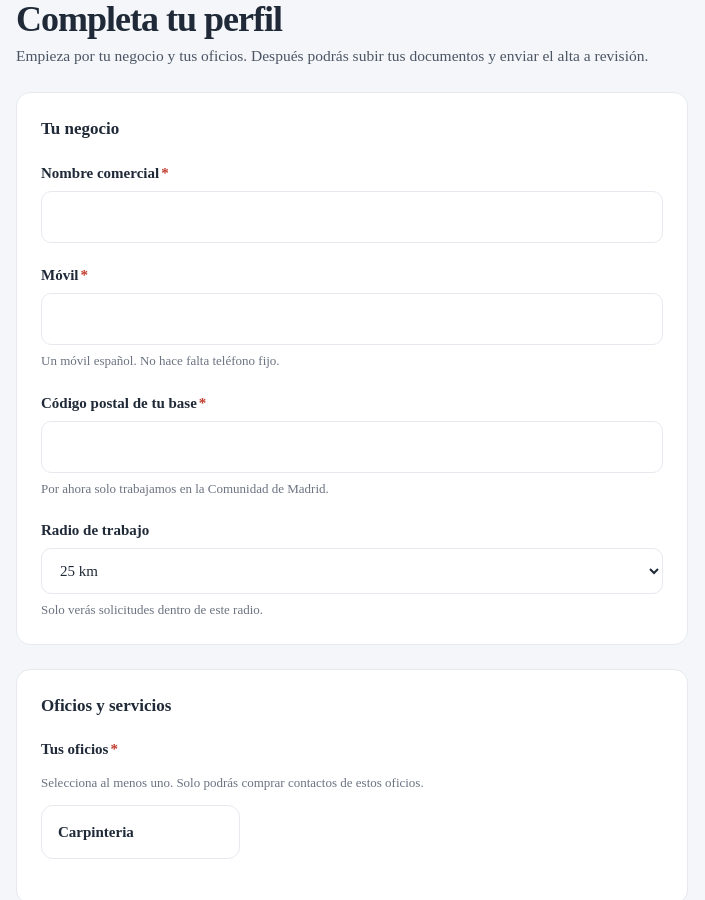
Test case: ProfileForm: errores al guardar › keeps errors without a field as a general alert
Type "Reformas Lopez" into the field labelled "Nombre comercial*".
click(352, 217); type("Reformas Lopez")  # box [41,191,663,243]
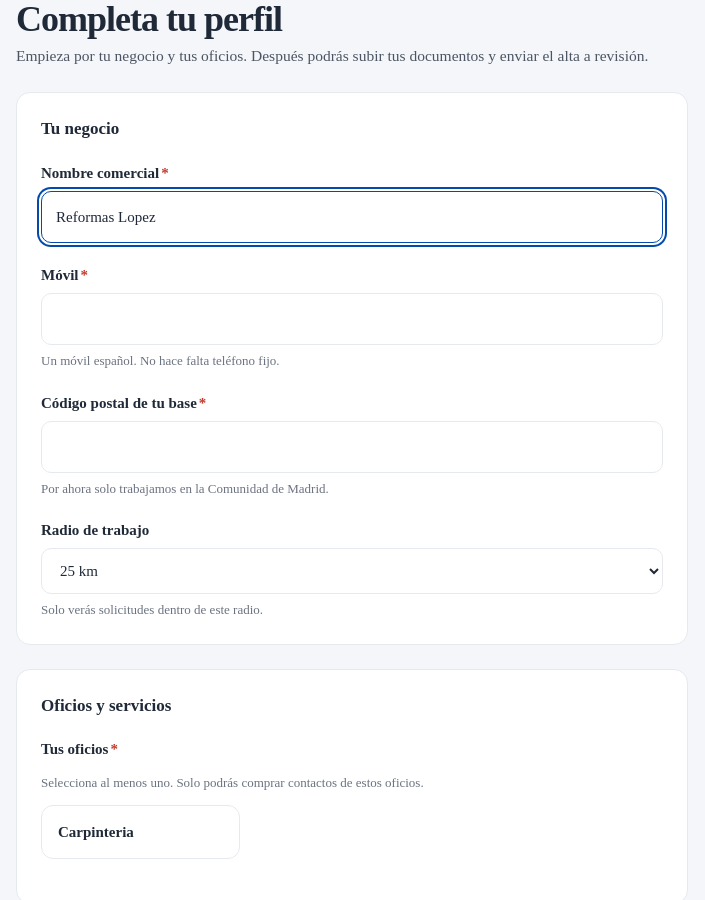
Type "612345678" into the field labelled "Móvil*".
click(352, 319); type("612345678")  # box [41,293,663,345]
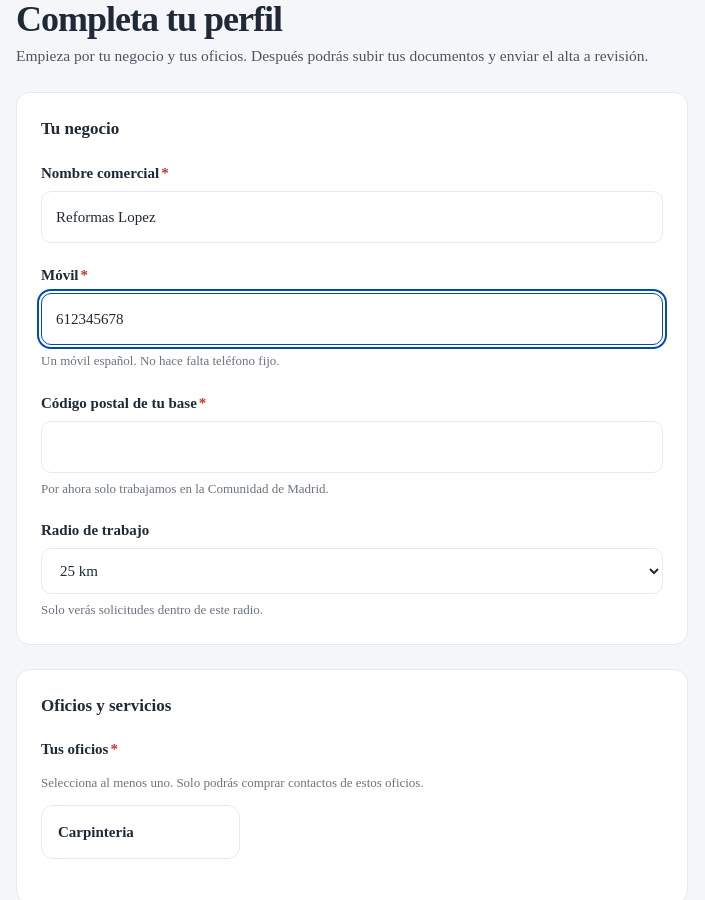
Type "28001" into the field labelled "Código postal de tu base*".
click(352, 447); type("28001")  # box [41,421,663,473]
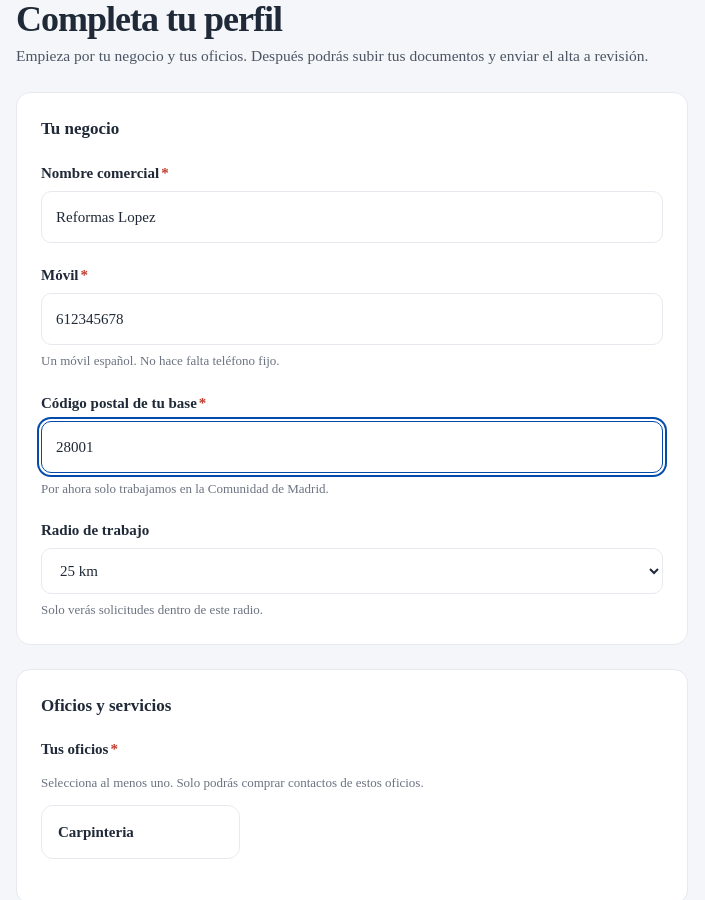
Click the checkbox labelled "Carpinteria".
click(141, 832)  # box [41,805,240,859]
(page scrolled)
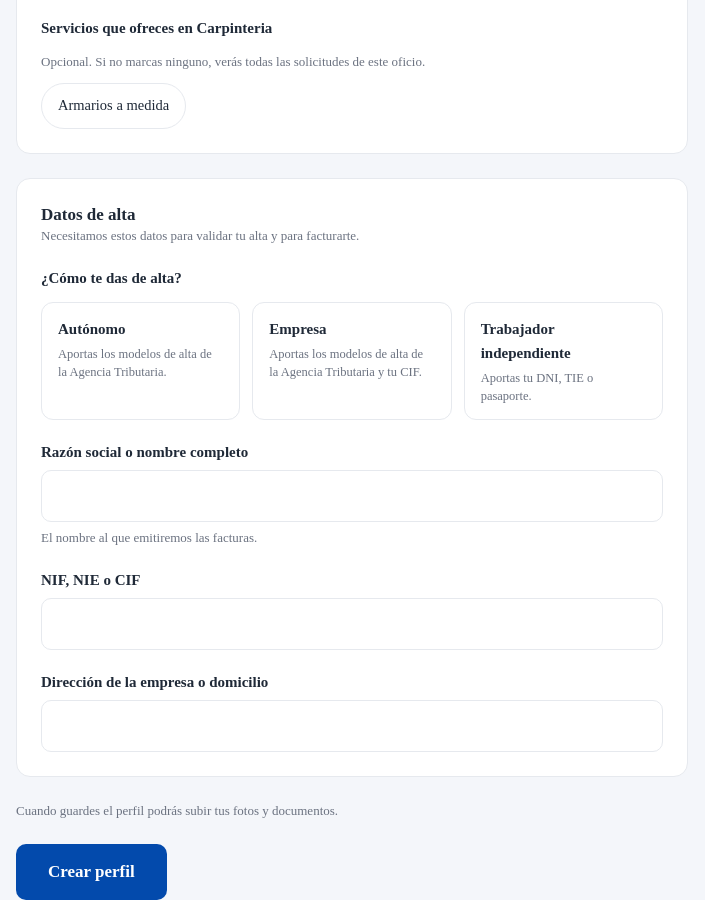
Click the button "Crear perfil".
click(91, 872)  # box [16,844,167,899]
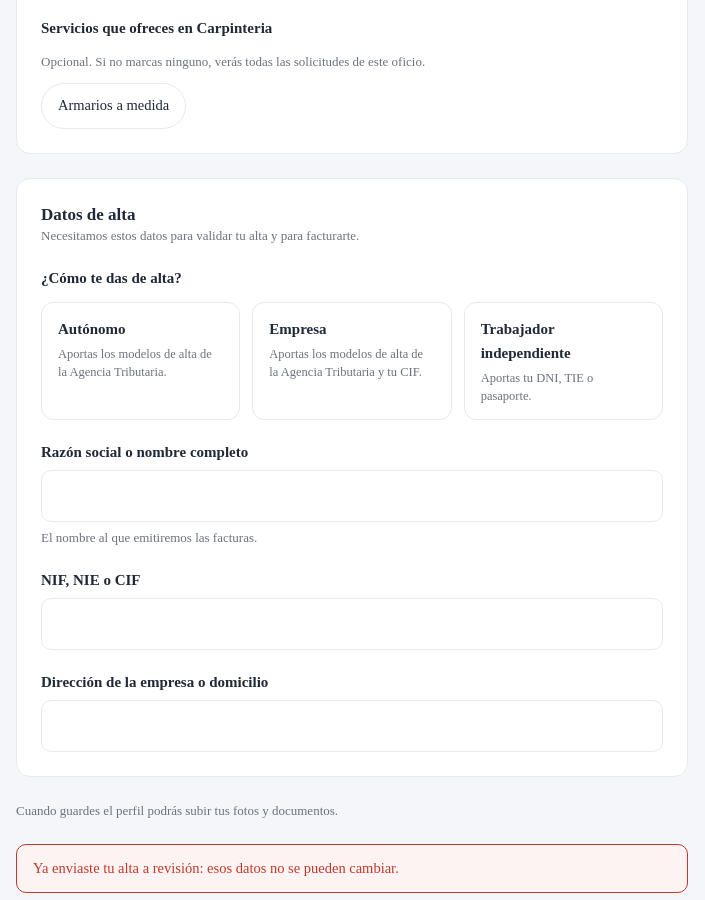
Result: the text "Ya enviaste tu alta a revisión: esos datos no se pueden cambiar." is shown at [33,860,399,876]
